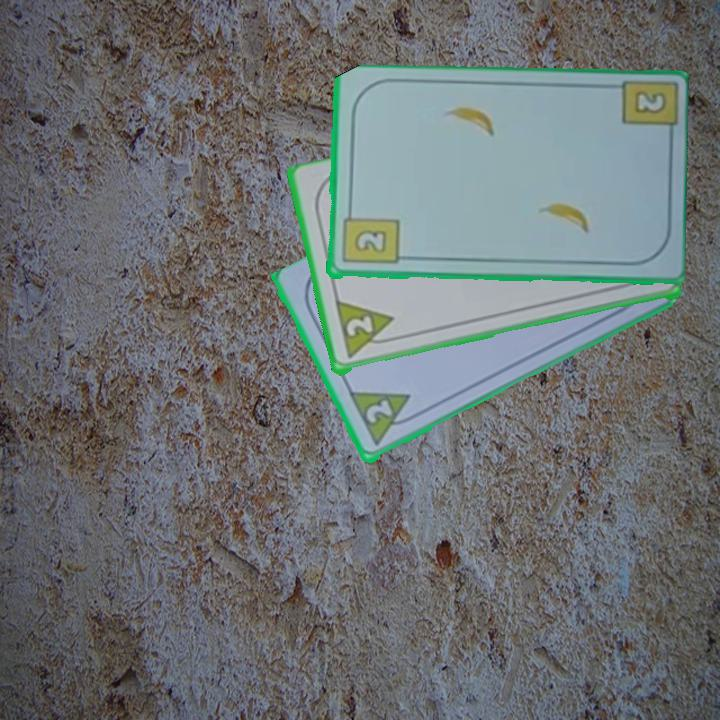2b: (338, 205, 400, 268), (630, 88, 670, 117)
2p: (361, 396, 395, 428), (342, 313, 376, 340)
